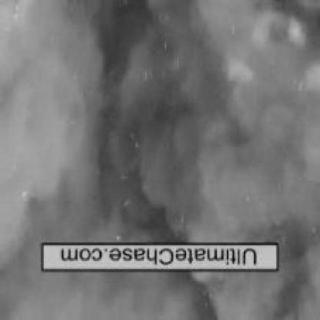Smoke: (5, 4, 318, 296)
